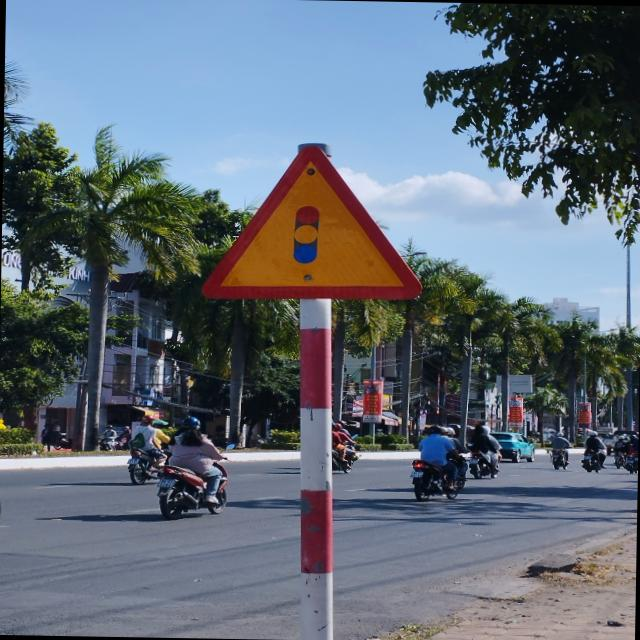Duong_Co_Go_Giam_Toc: (202, 140, 422, 304)
